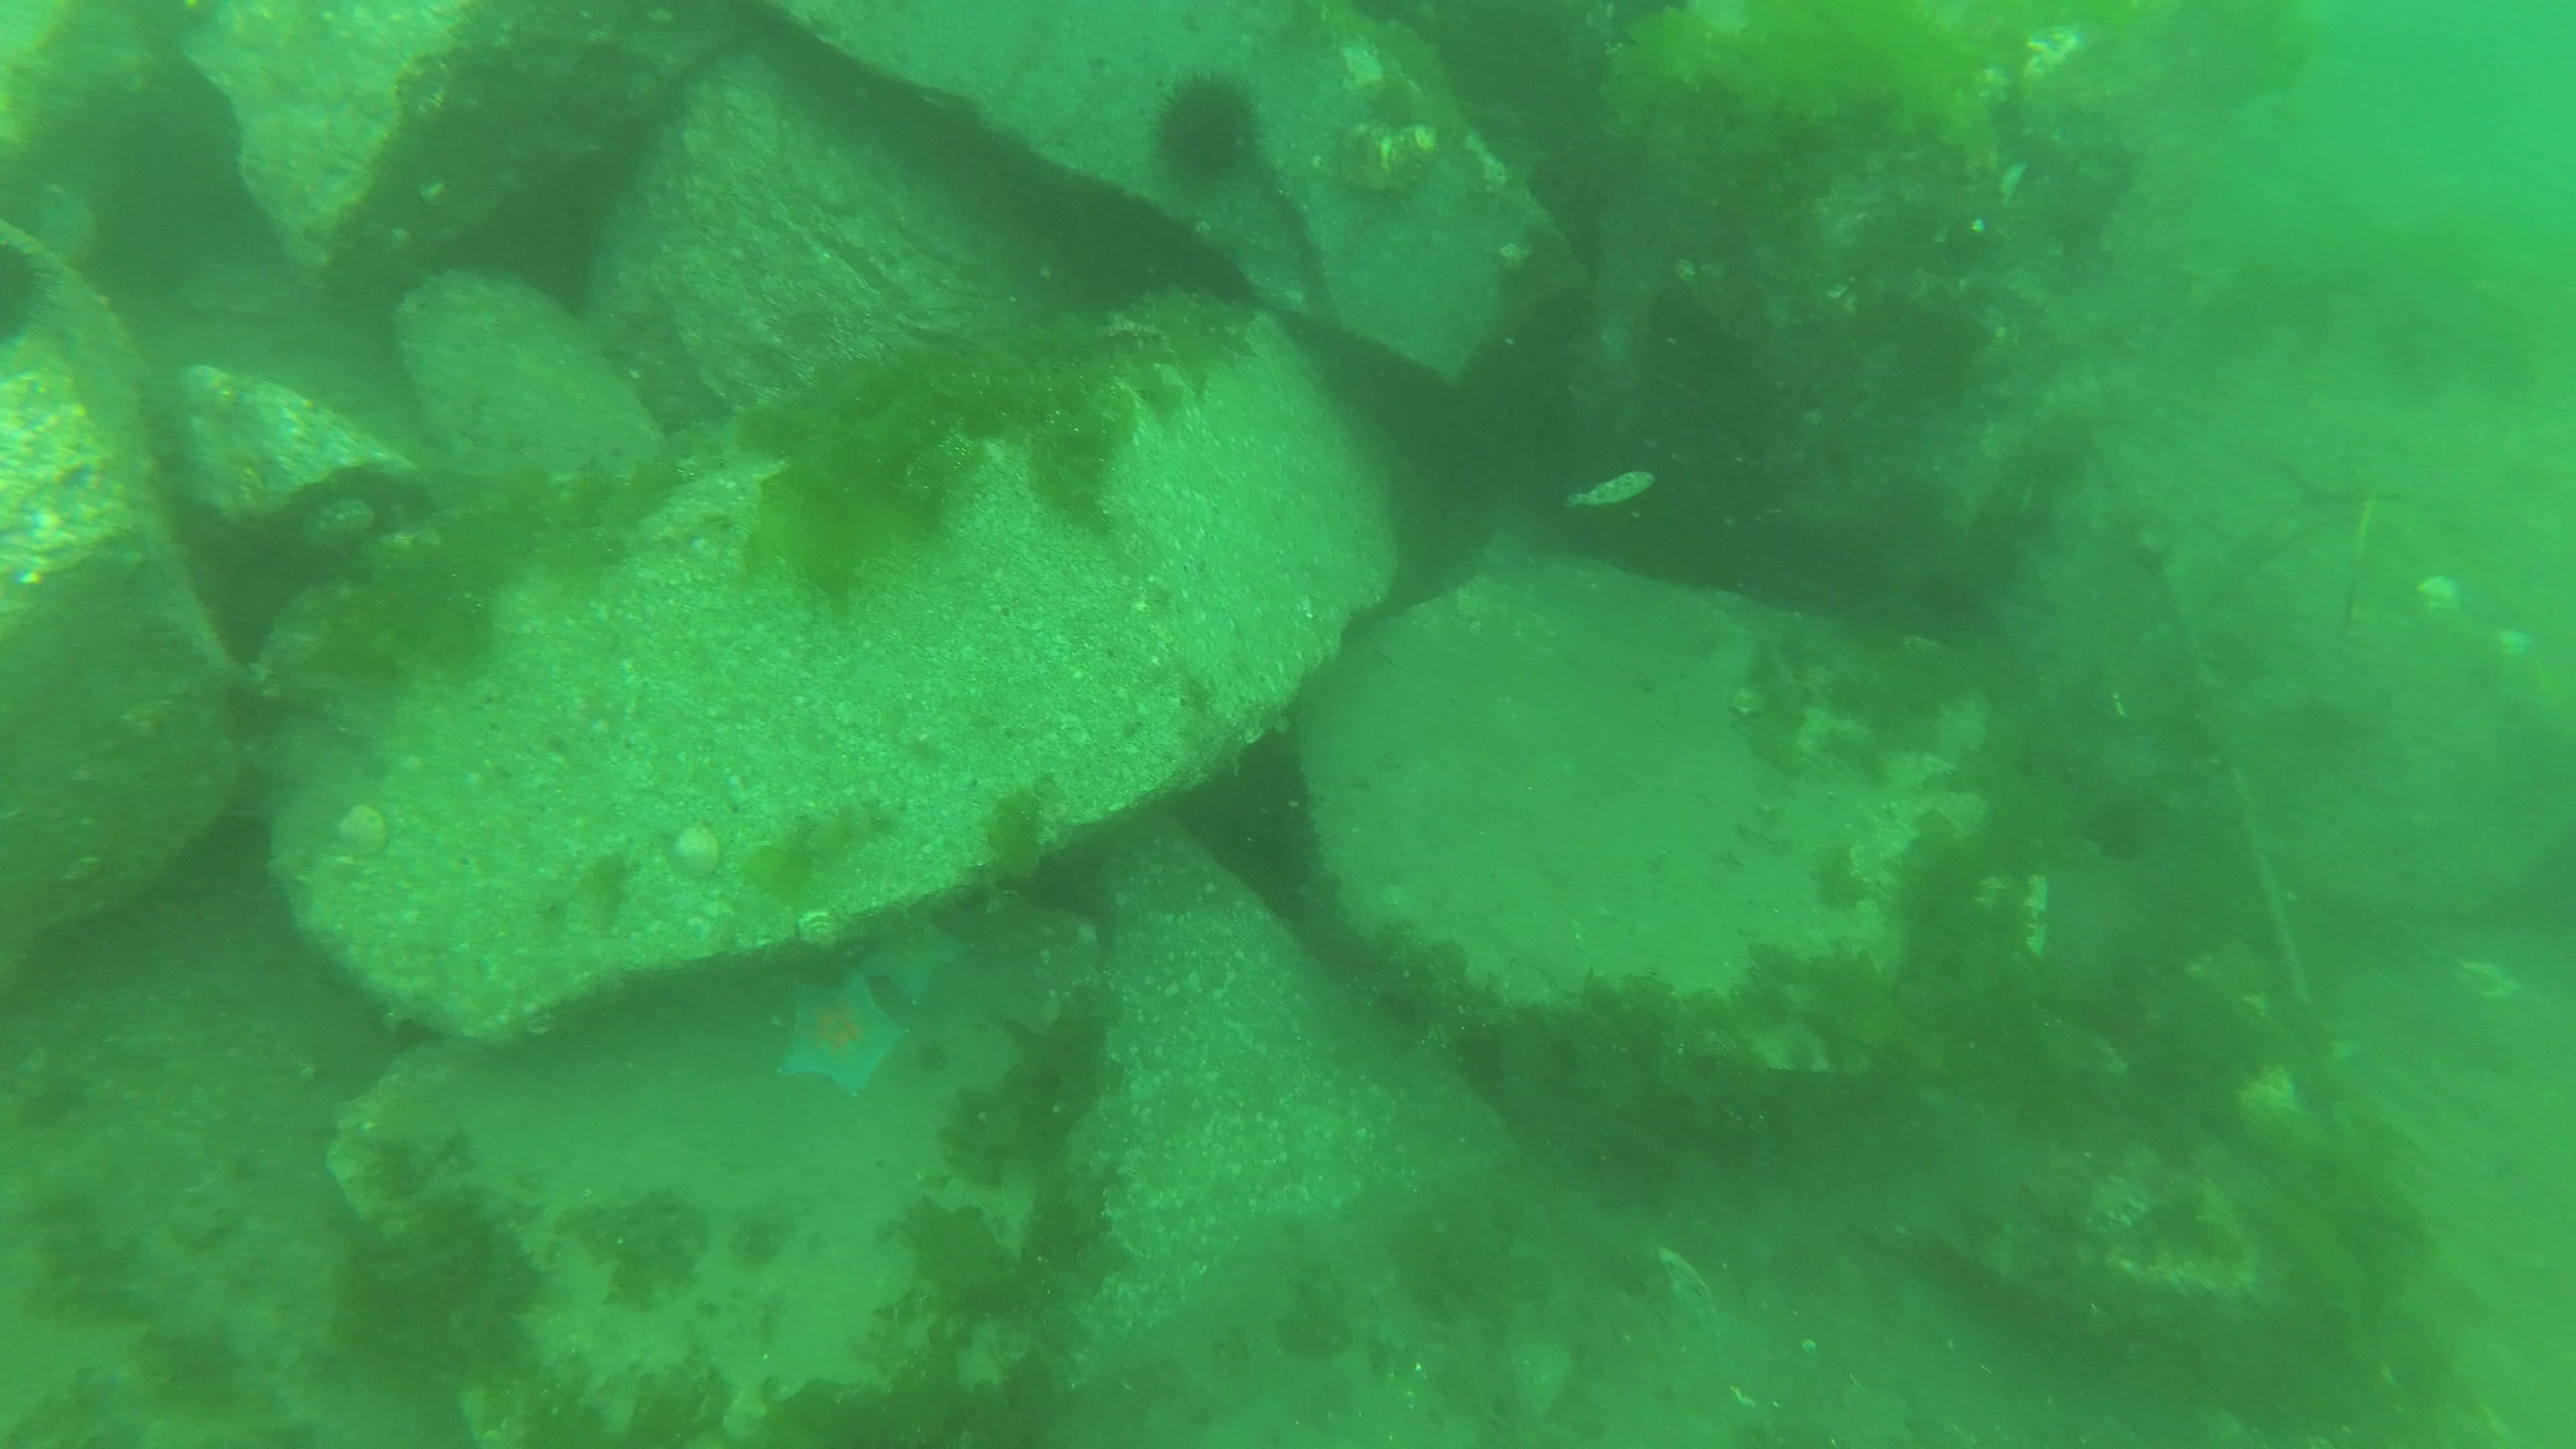echinus: (1148, 62, 1277, 196), (2, 234, 64, 349)
holothurian: (1415, 1272, 1502, 1430)
starfish: (770, 970, 913, 1102), (855, 913, 980, 1001)
